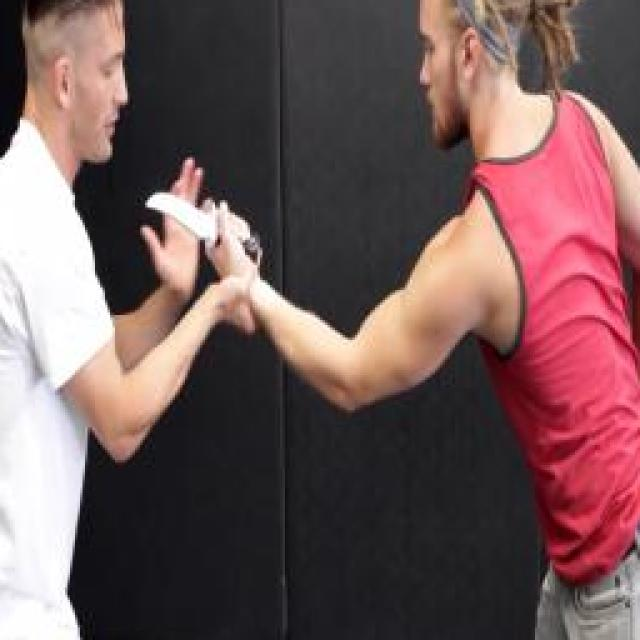knife: (140, 175, 268, 273)
